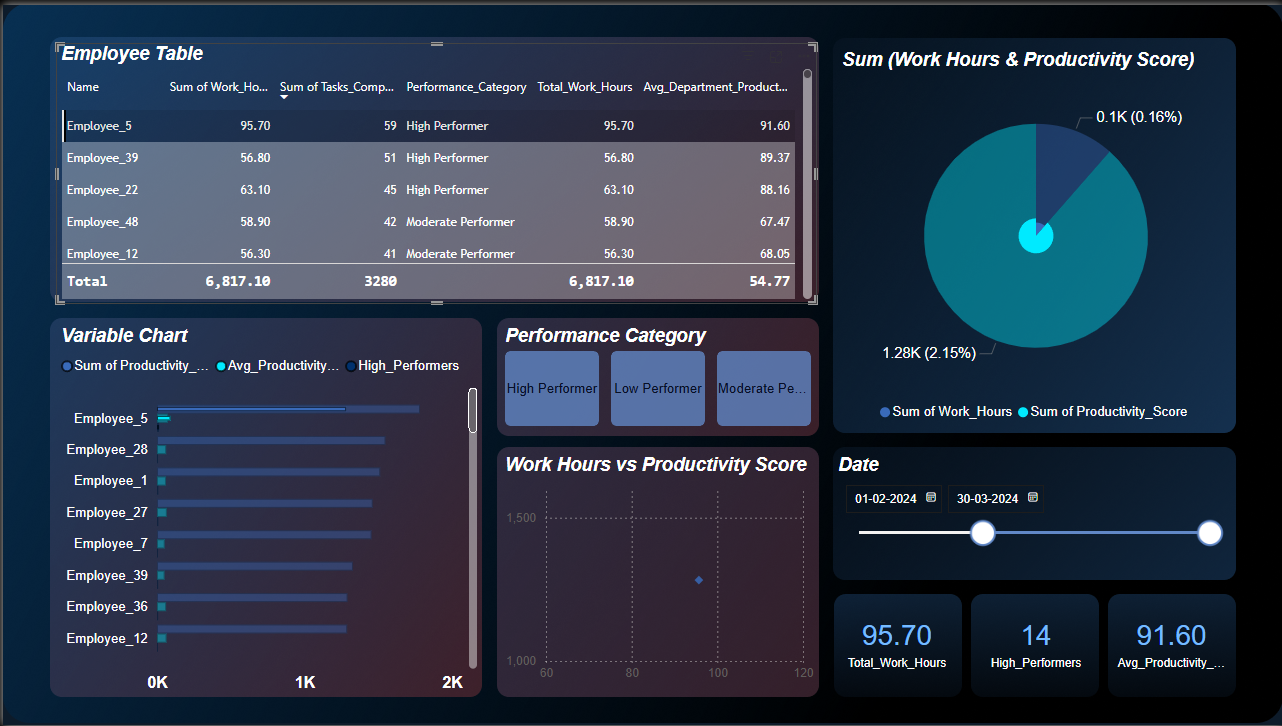

What the dashboard file says about the page in this screenshot:
{"tool":"powerbi","page":{"name":"Page 1","canvas":[1280,720],"ordinal":0},"visuals":[{"type":"clusteredBarChart","title":"Variable Chart","fields":{"Category":["Sheet1.Name"],"Y":["Sum(Sheet1.Productivity_Score)","Sheet1.Avg_Productivity_Score","Sheet1.High_Performers"]},"box":[53.3,320,425.6,374.4],"z":0},{"type":"scatterChart","title":"Work Hours vs Productivity Score","fields":{"X":["Sum(Sheet1.Work_Hours)"],"Y":["Sum(Sheet1.Productivity_Score)"]},"box":[496.7,448.9,318.9,235.6],"z":1000},{"type":"tableEx","title":"Employee Table","fields":{"Values":["Sheet1.Name","Sum(Sheet1.Work_Hours)","Sum(Sheet1.Tasks_Completed)","Sheet1.Performance_Category","Sheet1.Total_Work_Hours","Sheet1.Avg_Department_Productivity"]},"box":[53.3,37.8,761.1,261.1],"z":2000},{"type":"card","fields":{"Values":["Sheet1.Avg_Productivity_Score"]},"box":[1108.9,585.4,118.9,102.2],"z":3000},{"type":"card","fields":{"Values":["Sheet1.High_Performers"]},"box":[972.2,585.4,122.2,102.2],"z":4000},{"type":"card","fields":{"Values":["Sheet1.Total_Work_Hours"]},"box":[831.1,585.4,125.6,102.2],"z":5000},{"type":"pieChart","title":"Sum (Work Hours & Productivity Score)","fields":{"Y":["Sum(Sheet1.Work_Hours)","Sum(Sheet1.Productivity_Score)"]},"box":[834.4,44.4,397.8,381.1],"z":6000},{"type":"slicer","title":"Date","fields":{"Values":["Sheet1.Date"]},"box":[830,448.9,397.8,112.2],"z":7000},{"type":"advancedSlicerVisual","title":"Performance Category","fields":{"Values":["Sheet1.Performance_Category"]},"box":[496.7,320,317.8,105.6],"z":8001}]}

Visuals, with their boxes in screenshot pixels (x1, y1, x2, y2), scaled from the page's 1280x720 canvas onto the 1282x726 screenshot:
"Variable Chart" clusteredBarChart: locate(53, 323, 480, 700)
"Work Hours vs Productivity Score" scatterChart: locate(497, 453, 817, 690)
"Employee Table" tableEx: locate(53, 38, 816, 301)
card - Sheet1.Avg_Productivity_Score: locate(1111, 590, 1230, 693)
card - Sheet1.High_Performers: locate(974, 590, 1096, 693)
card - Sheet1.Total_Work_Hours: locate(832, 590, 958, 693)
"Sum (Work Hours & Productivity Score)" pieChart: locate(836, 45, 1234, 429)
"Date" slicer: locate(831, 453, 1230, 566)
"Performance Category" advancedSlicerVisual: locate(497, 323, 816, 429)
